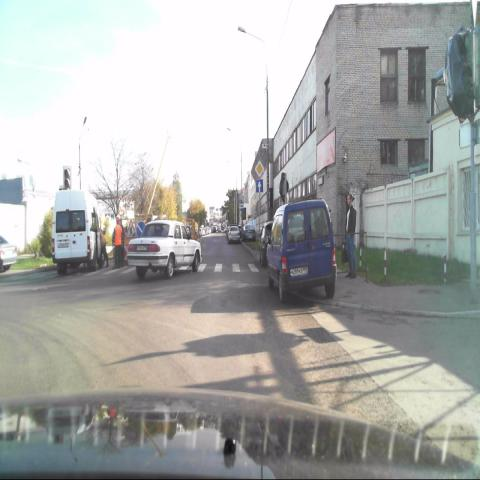1_25: (125, 220, 136, 237)
2_1: (254, 160, 264, 176)
4_2_1: (136, 222, 145, 238)
5_5: (256, 180, 263, 194)
